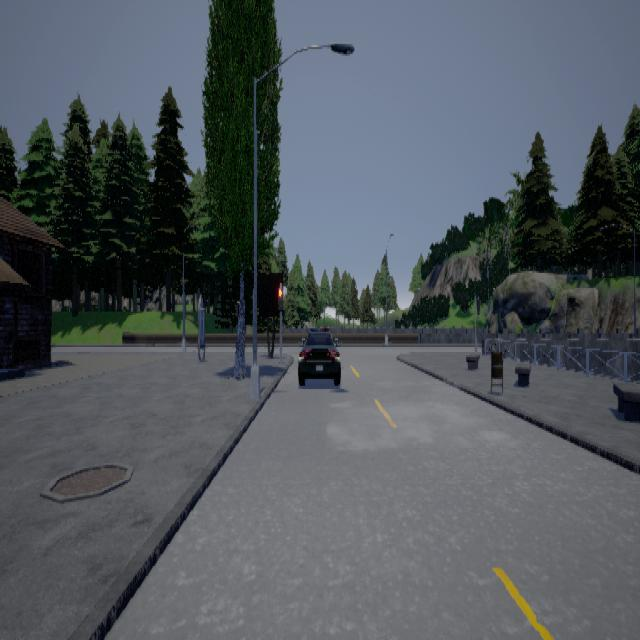red_light: (279, 283, 284, 313)
vehicle: (299, 327, 342, 384)
